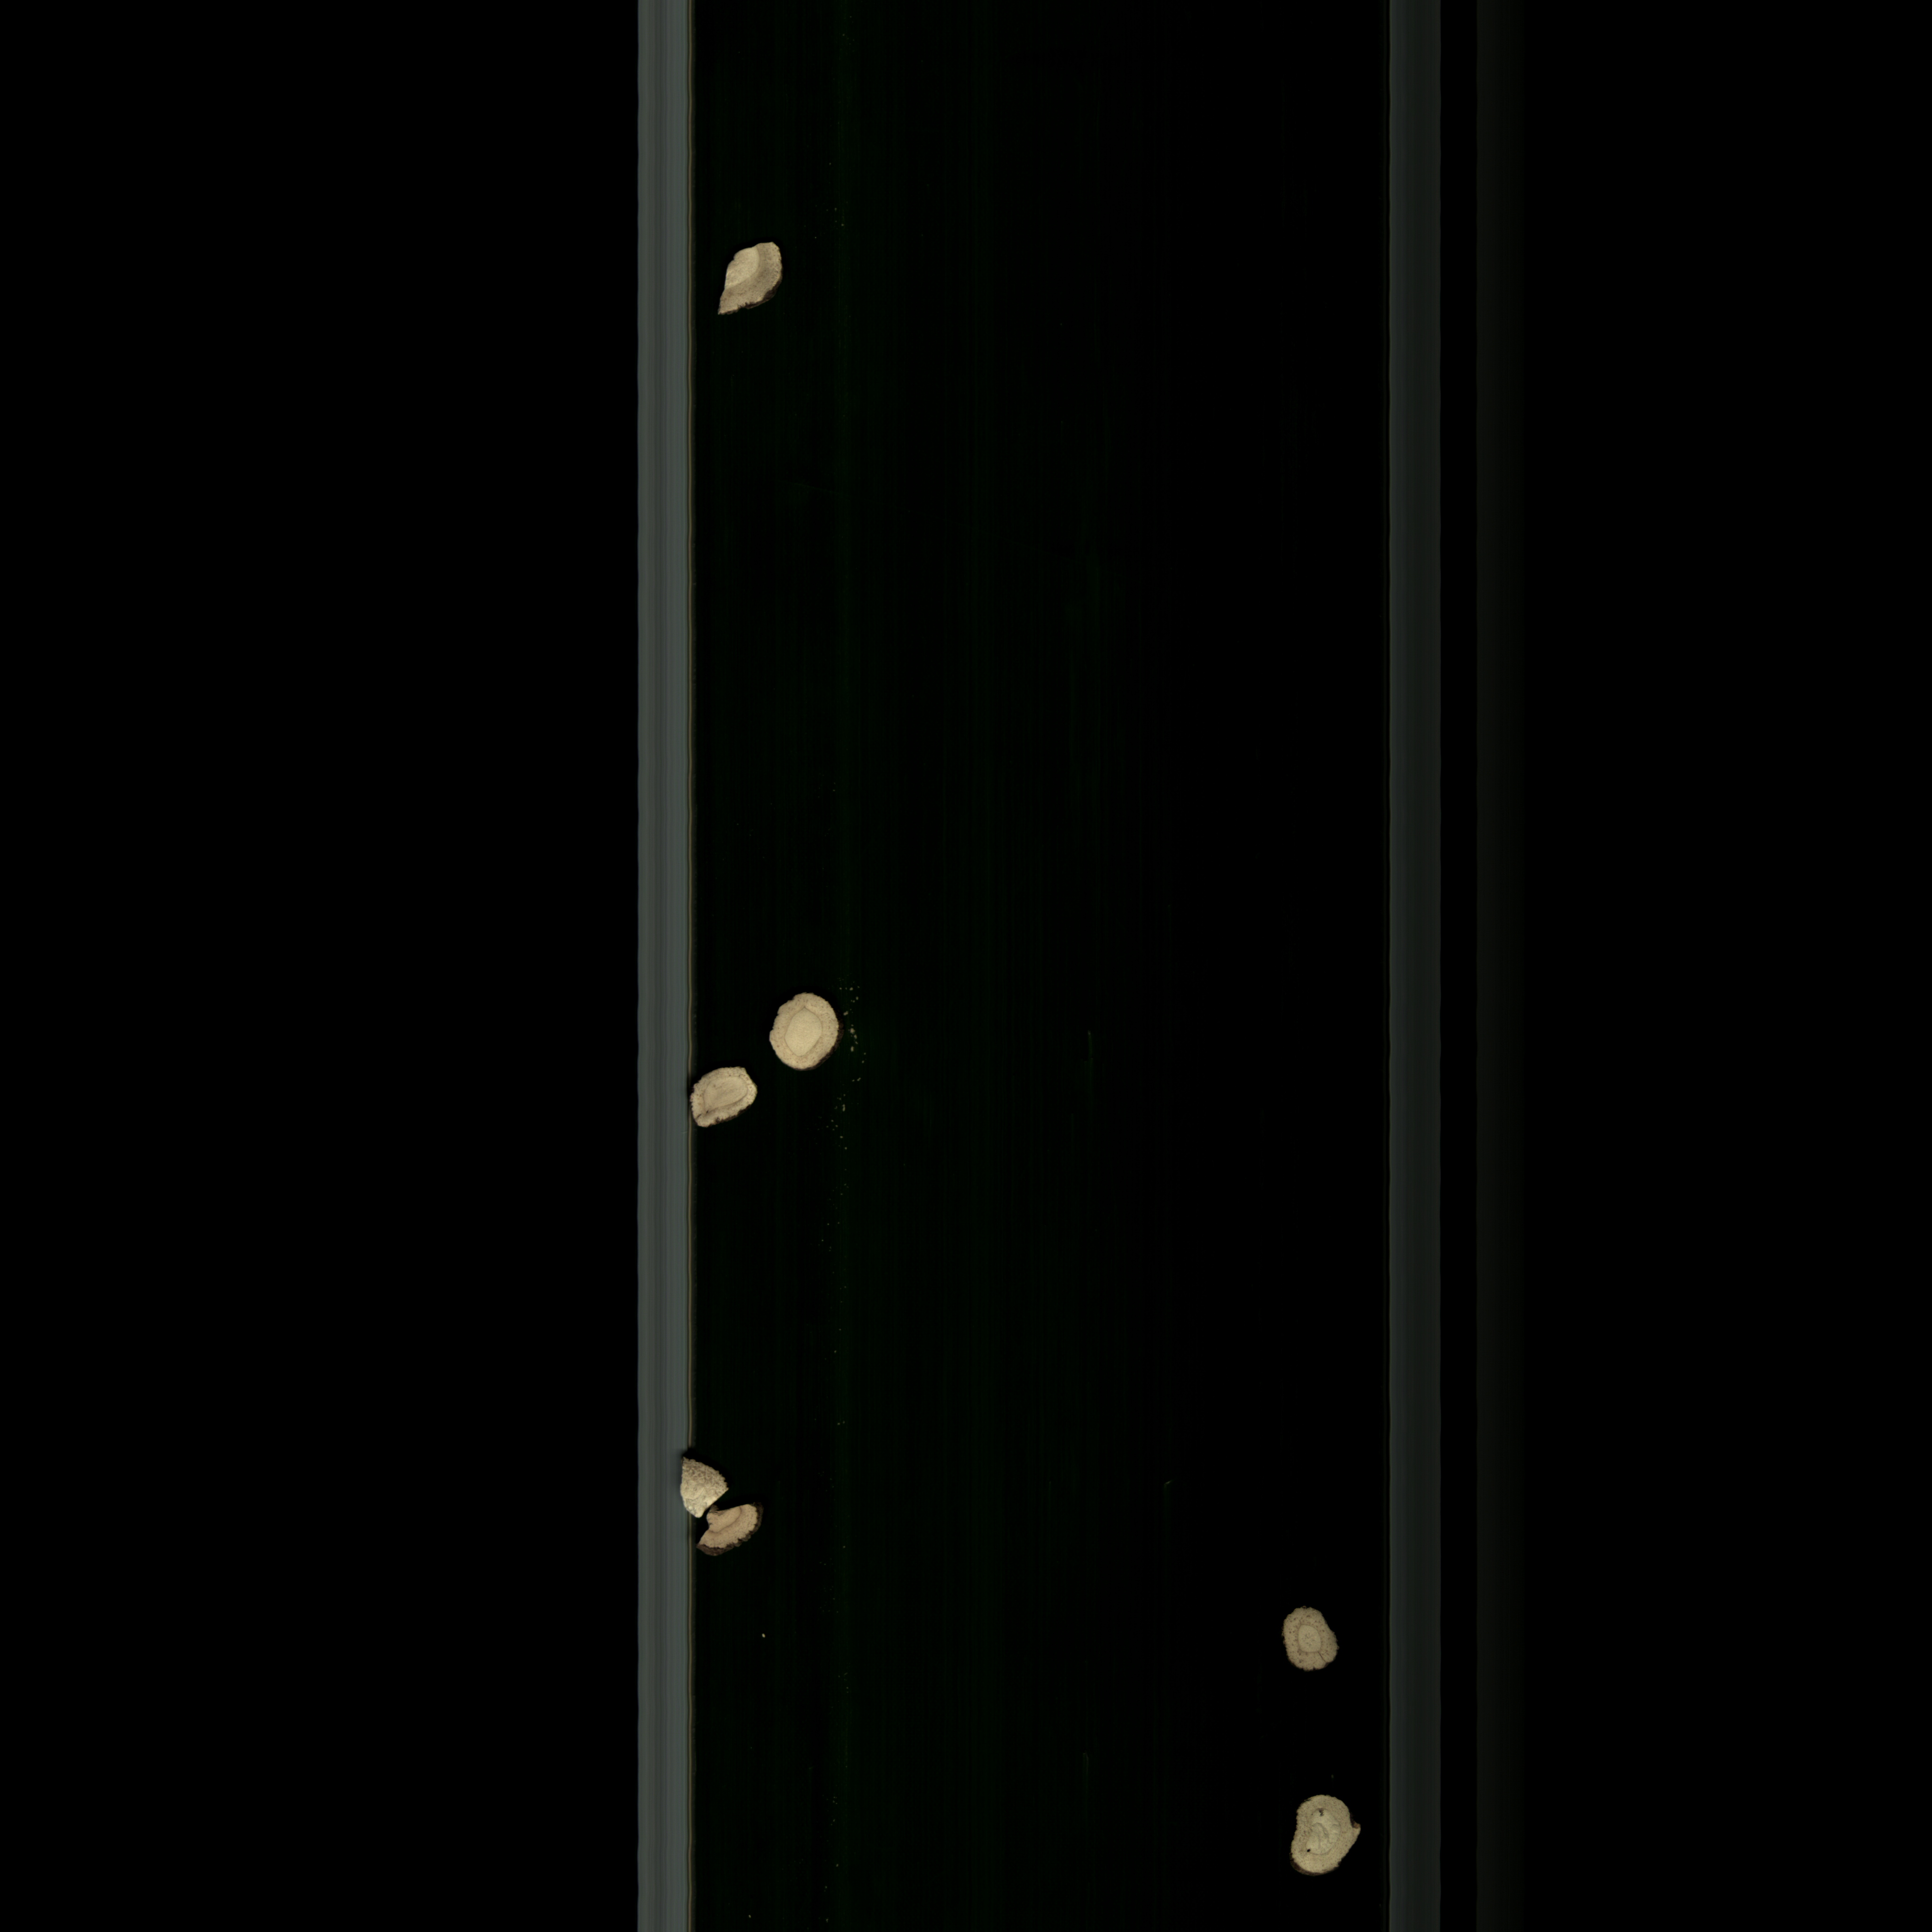debris: (678, 1454, 731, 1518)
dreg: (690, 1497, 768, 1559)
hole: (1284, 1787, 1371, 1882)
moldy: (709, 237, 801, 326), (686, 1058, 761, 1127)
